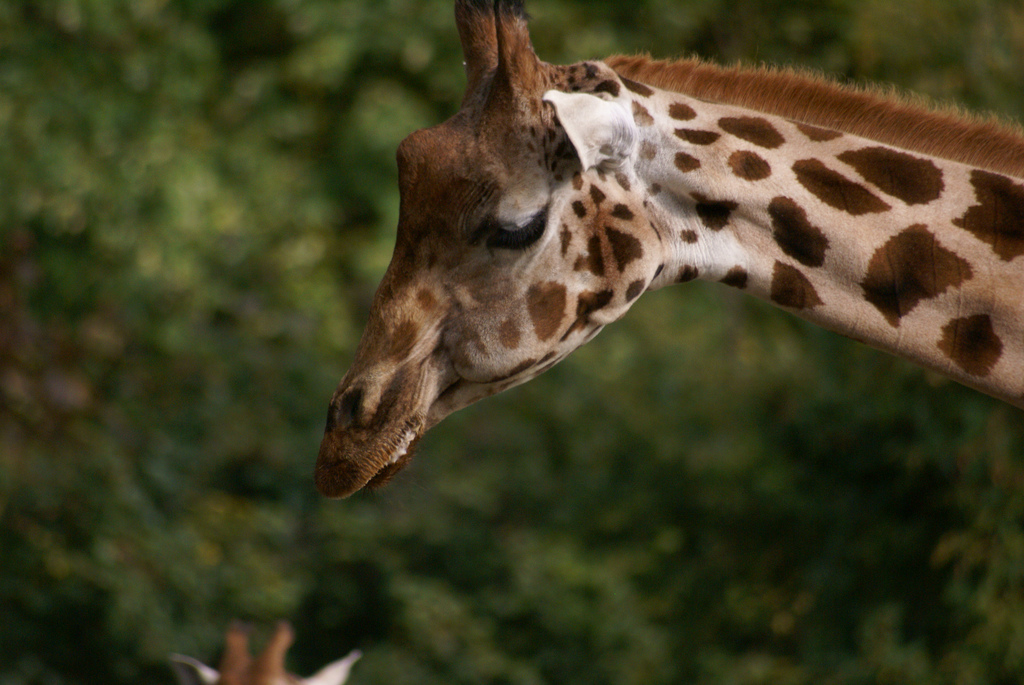giraffe: (277, 30, 967, 507)
